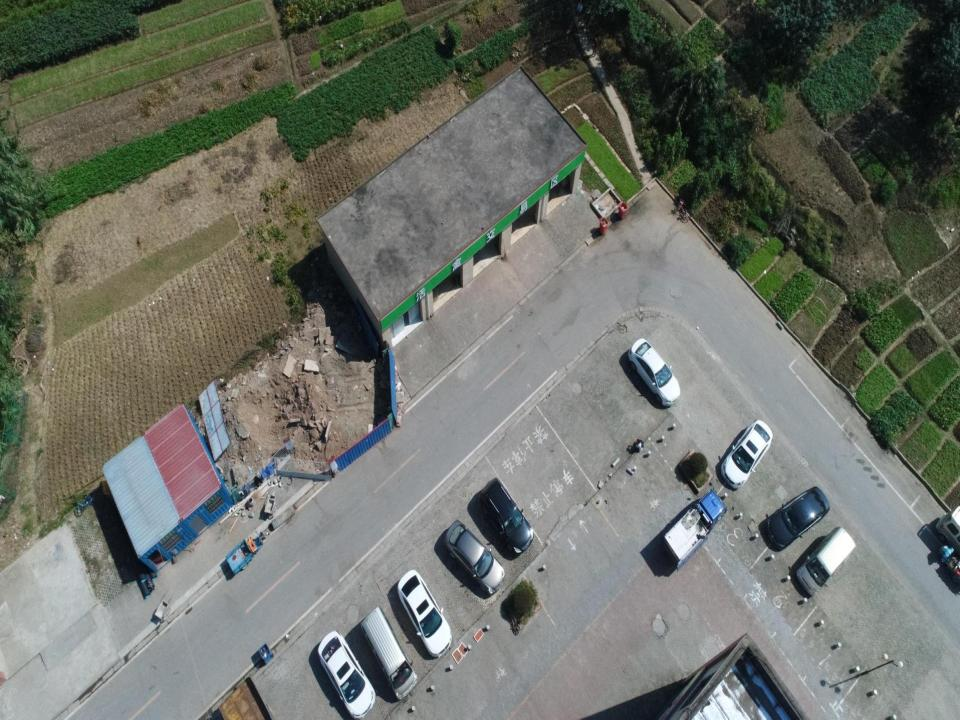car: (317, 629, 375, 718), (397, 569, 452, 657), (442, 520, 505, 596), (479, 480, 534, 556), (765, 486, 830, 550), (628, 337, 680, 408), (721, 419, 773, 489)
truck: (658, 488, 727, 571), (218, 675, 276, 719)
van: (360, 606, 417, 700), (796, 526, 856, 598), (936, 506, 959, 549)
